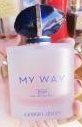armani_my_way_floral: (5, 6, 77, 121)
